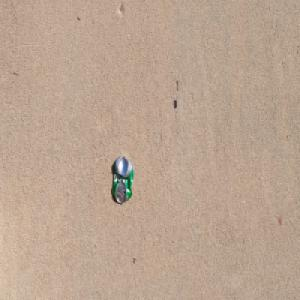SodaCan: (111, 154, 134, 204)
